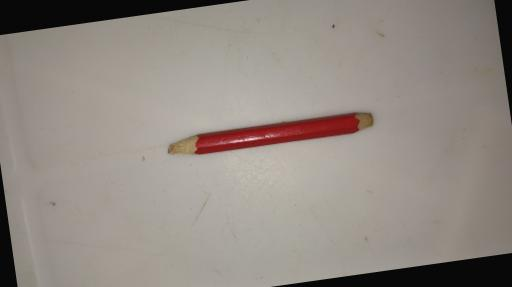Pencil: (165, 108, 376, 160)
